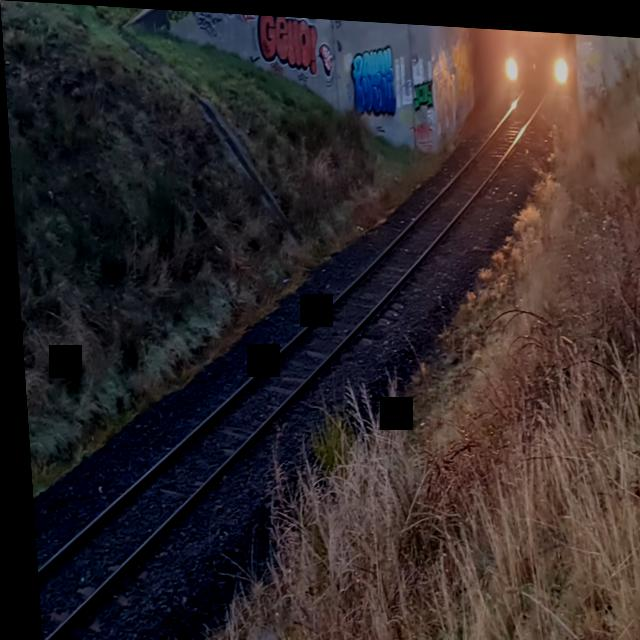locomotive: (494, 23, 581, 101)
